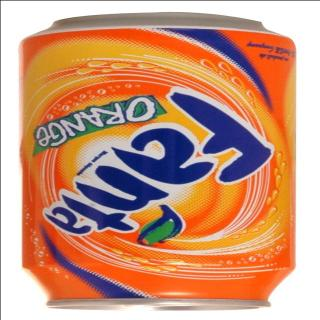Anorganik: (9, 12, 304, 316)
